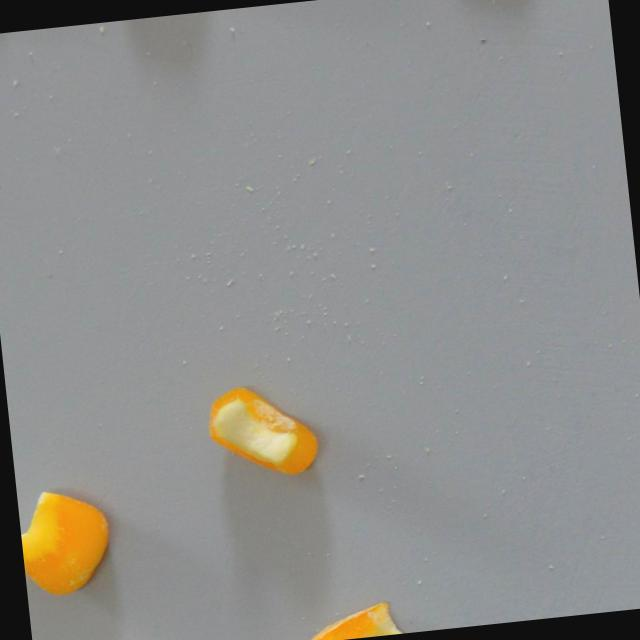no_canjicado: (16, 484, 116, 599)
pelicula: (203, 381, 320, 487), (294, 597, 429, 640)
